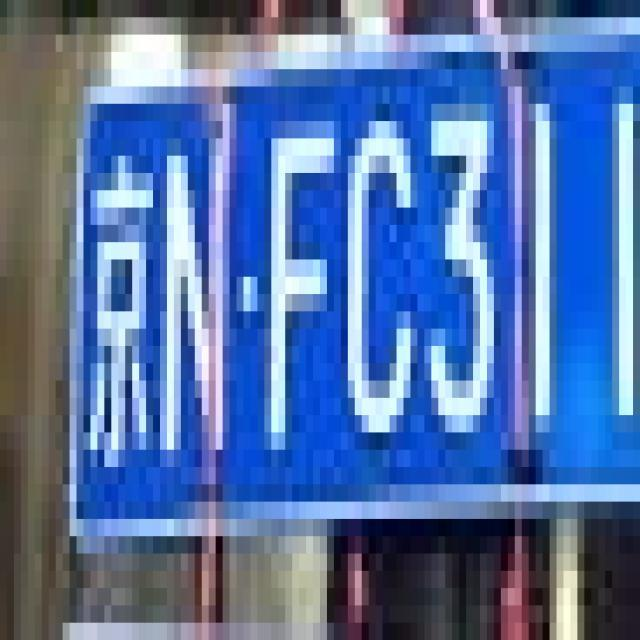licenseplate: (55, 20, 640, 595)
